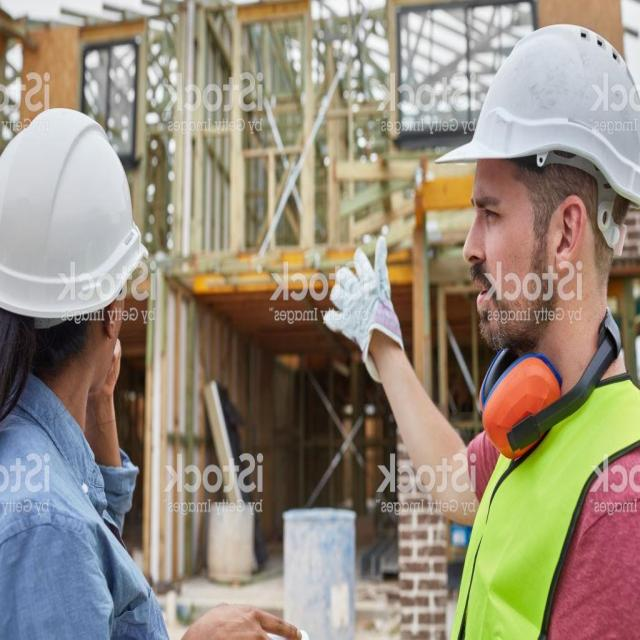Reflective-Jacket: (450, 324, 637, 640)
Safety-Helmet: (436, 17, 640, 206), (0, 101, 148, 326)
